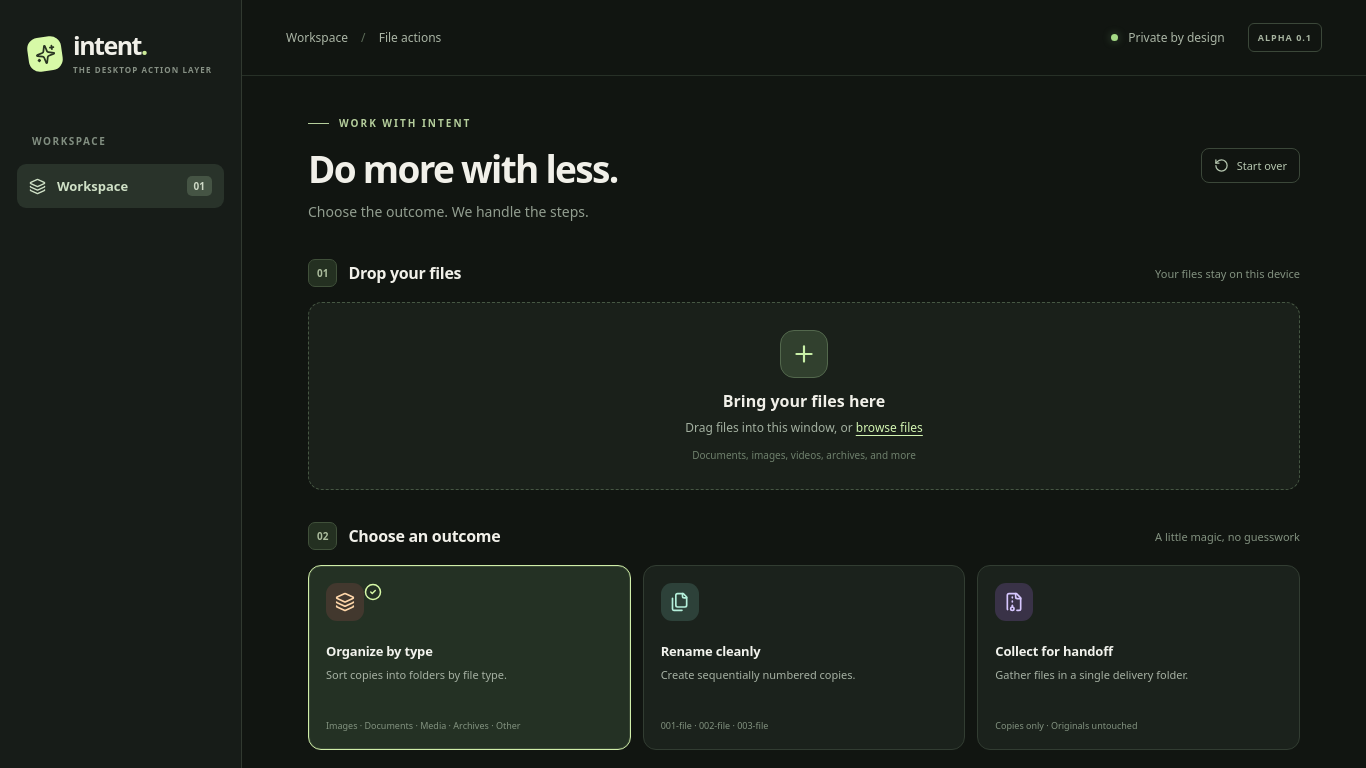
approved plan UI contract › invalidates the preview when the recipe changes
Click the button with aria-label "Choose files or drop them here": click(804, 396) x1=308 y1=302 x2=1300 y2=490
(page scrolled)
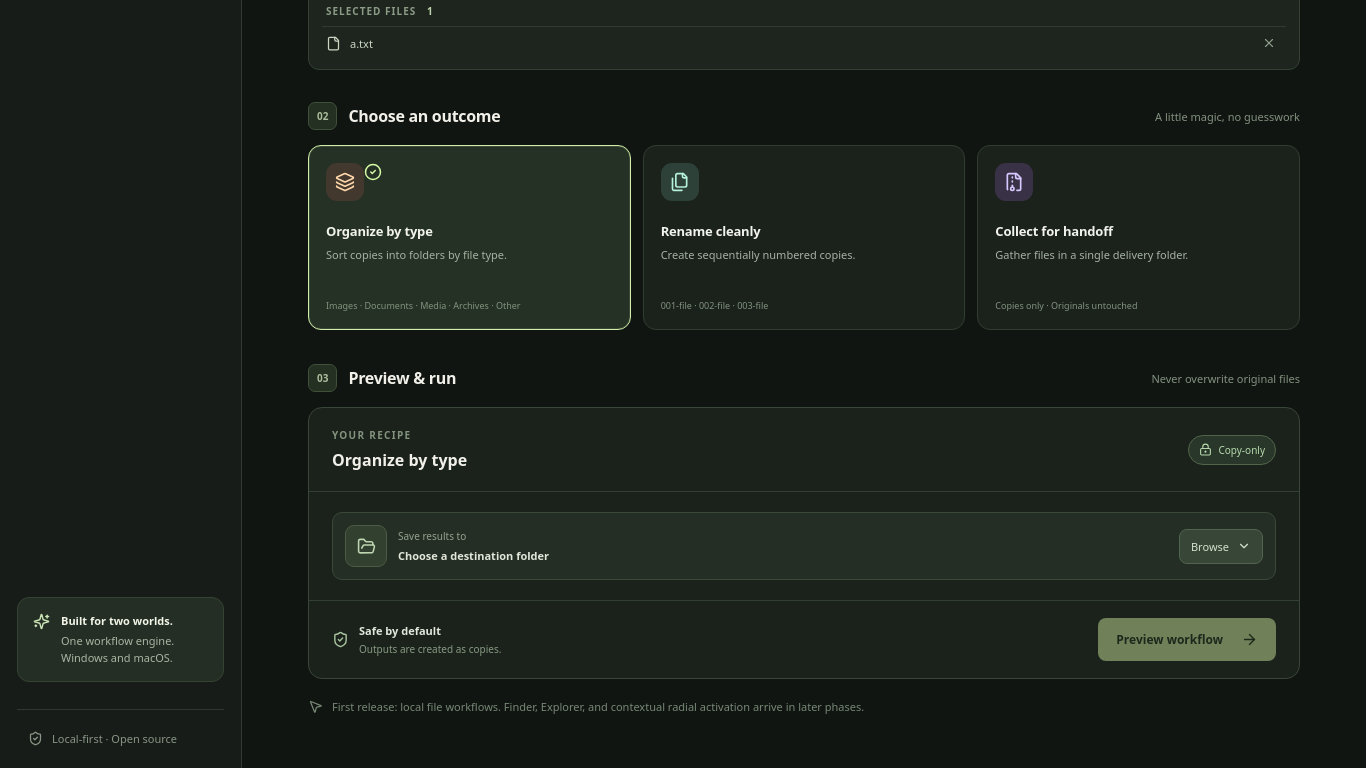
Click the button "Browse": click(1221, 546) x1=1179 y1=528 x2=1263 y2=564
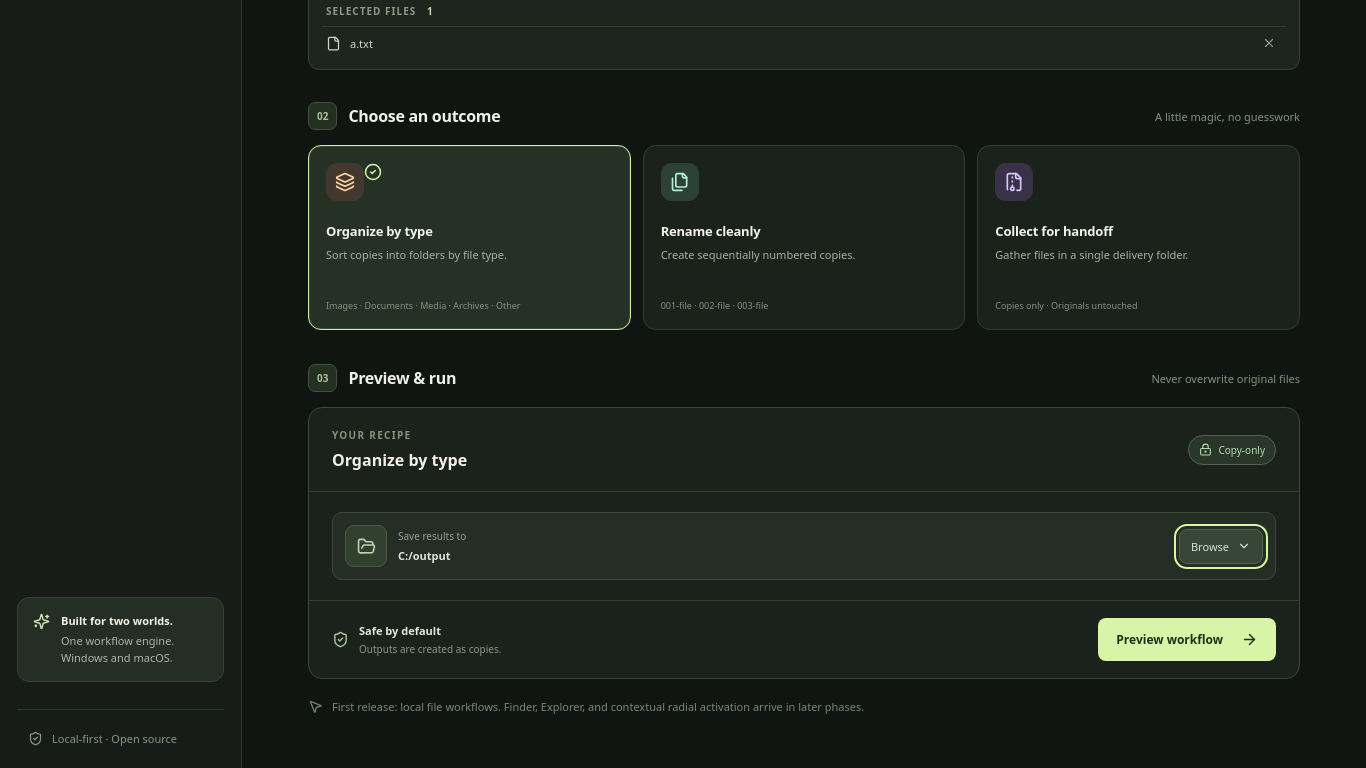
Click the button "Preview workflow": click(1187, 640) x1=1098 y1=618 x2=1276 y2=661
(page scrolled)
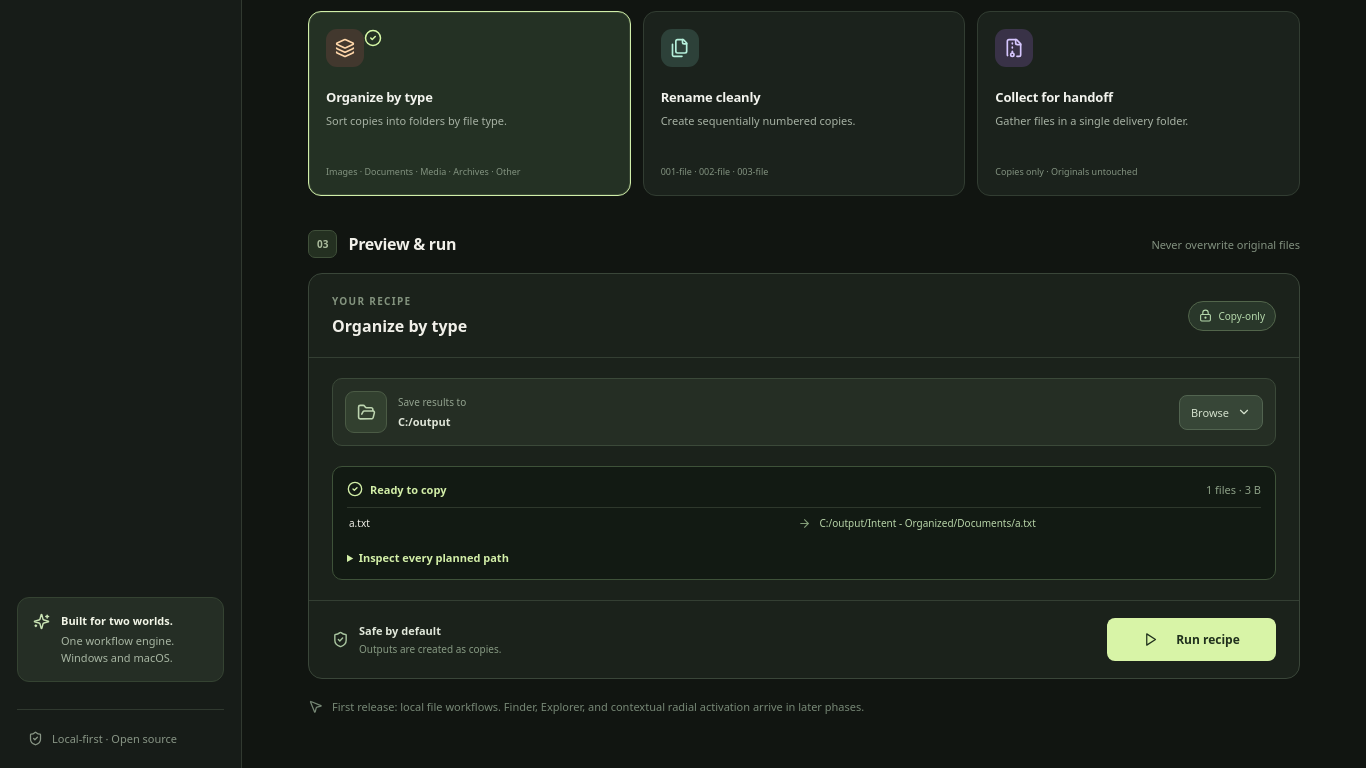
Expected: the button "Run recipe" is shown, x1=1107 y1=618 x2=1276 y2=661
Click the button "Rename cleanly": click(680, 48) x1=643 y1=11 x2=965 y2=196
(page scrolled)
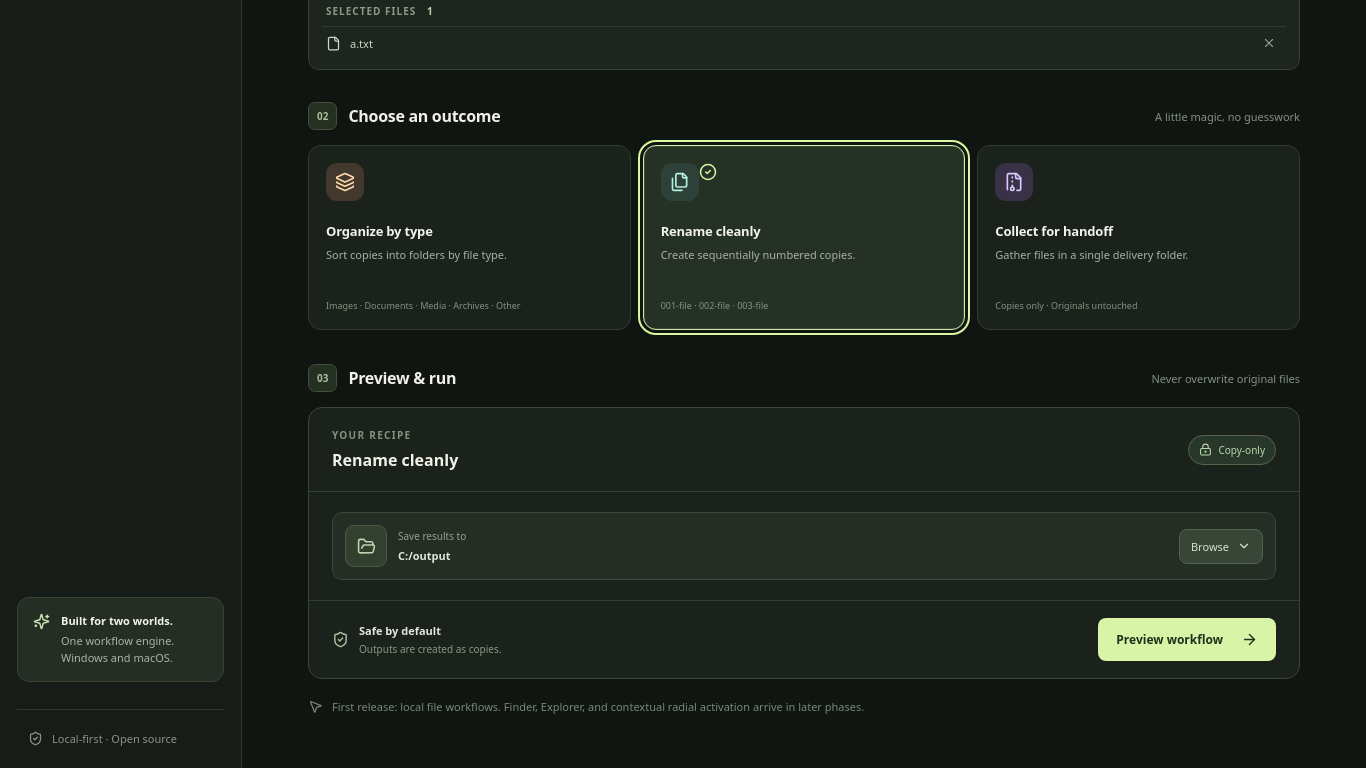
Expected: the button "Run recipe" is gone
Expected: the button "Preview workflow" is shown, x1=1098 y1=618 x2=1276 y2=661
